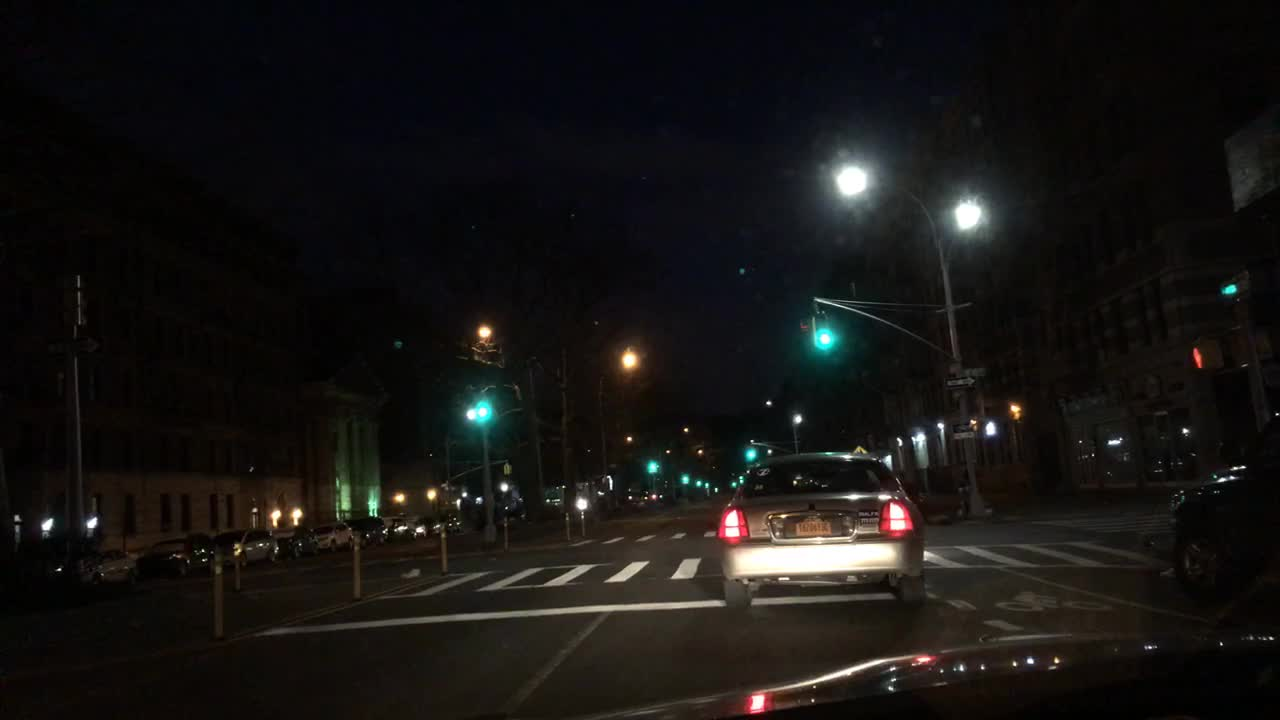car: (714, 451, 926, 605), (1149, 404, 1277, 589), (136, 533, 217, 575), (48, 548, 142, 583), (213, 526, 279, 564), (279, 523, 316, 556), (308, 522, 351, 548), (352, 512, 388, 542), (384, 517, 409, 542), (625, 489, 664, 504), (442, 511, 460, 537), (402, 520, 423, 537), (420, 517, 442, 533)
person: (959, 464, 982, 515)
traffic light: (1235, 330, 1270, 366), (1191, 337, 1224, 369), (1227, 275, 1243, 318), (813, 313, 827, 344), (799, 313, 811, 346), (1011, 401, 1025, 426), (984, 420, 998, 437), (476, 398, 484, 420), (694, 471, 703, 489), (744, 445, 754, 460), (738, 471, 747, 486), (680, 470, 688, 486), (702, 476, 710, 489), (649, 457, 653, 475)
traffic sign: (48, 334, 97, 358), (942, 374, 973, 388), (957, 366, 986, 379), (951, 420, 970, 438), (851, 445, 866, 457)
